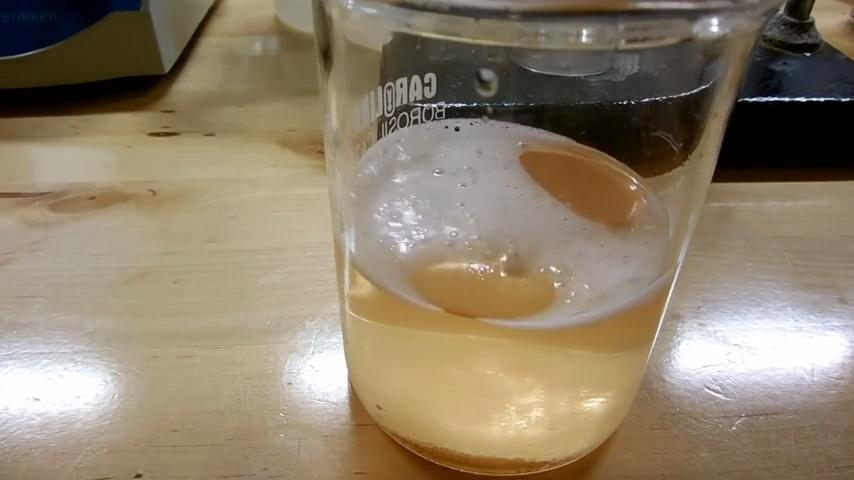Beaker: (304, 7, 710, 466)
